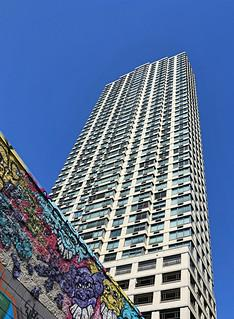building: (27, 49, 219, 319)
